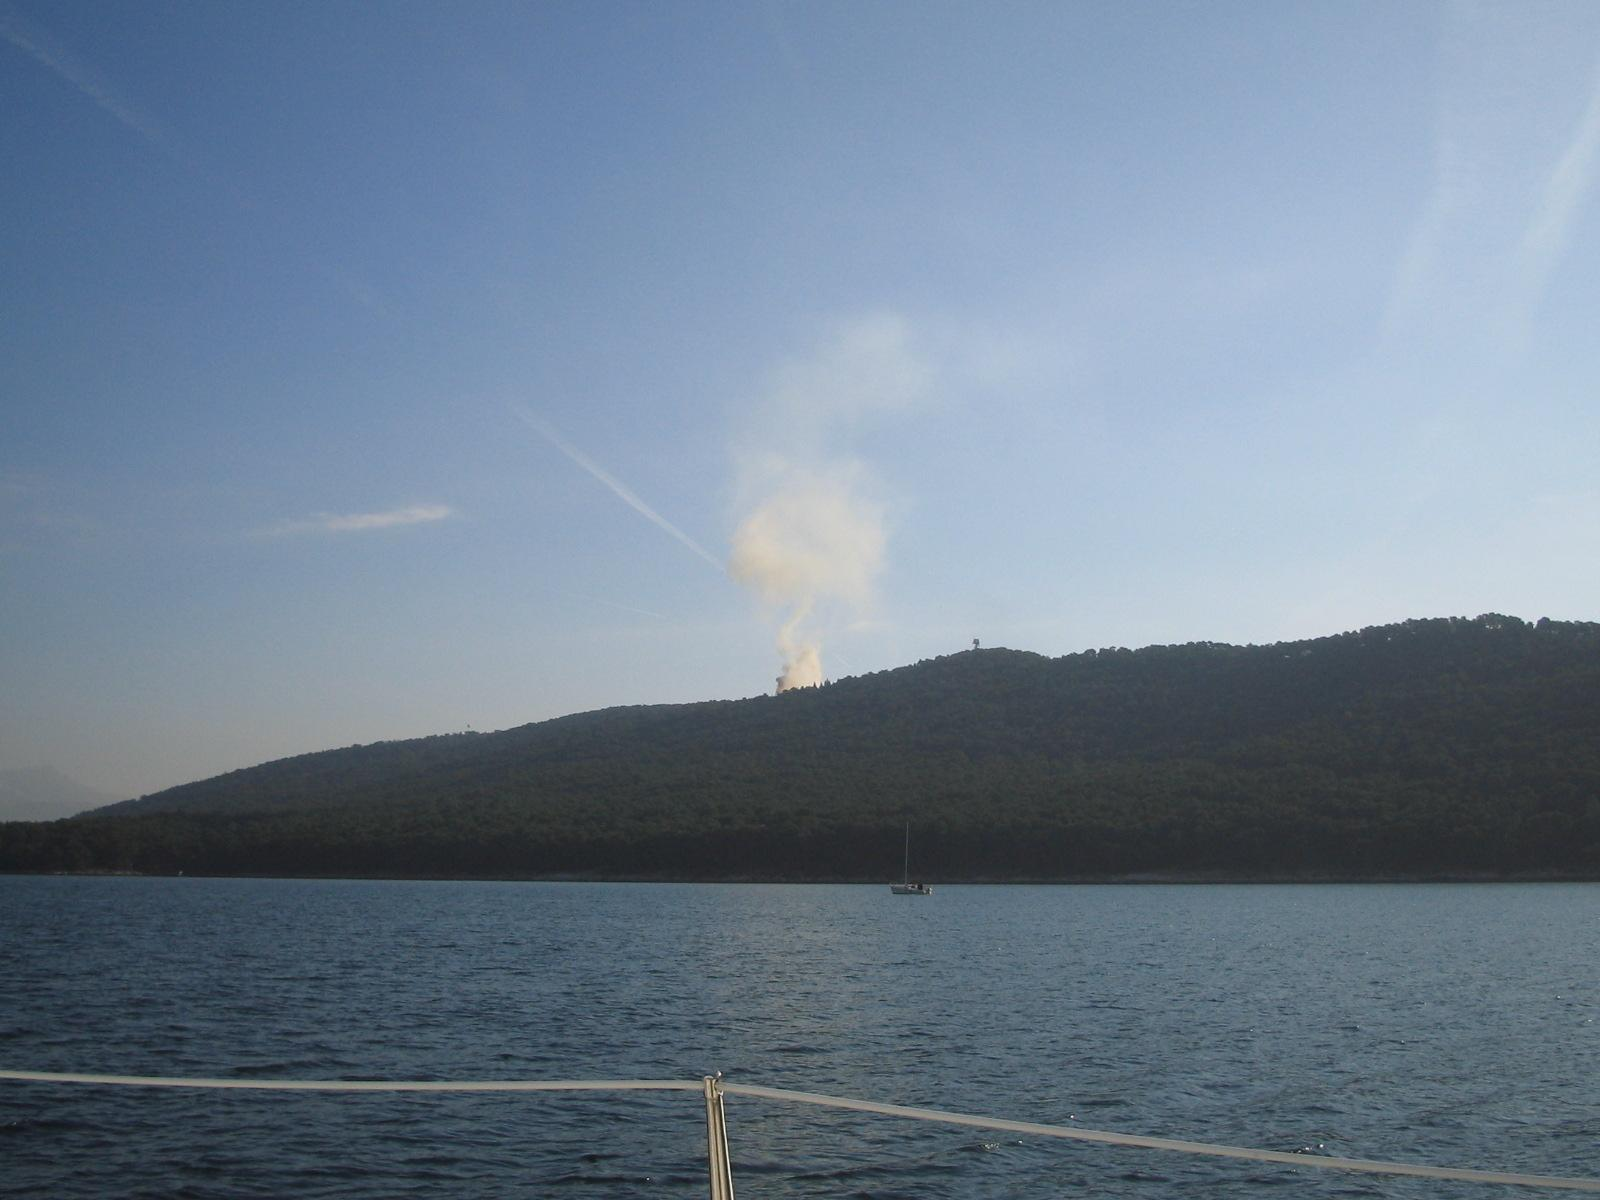Smoke: (716, 315, 910, 689)
